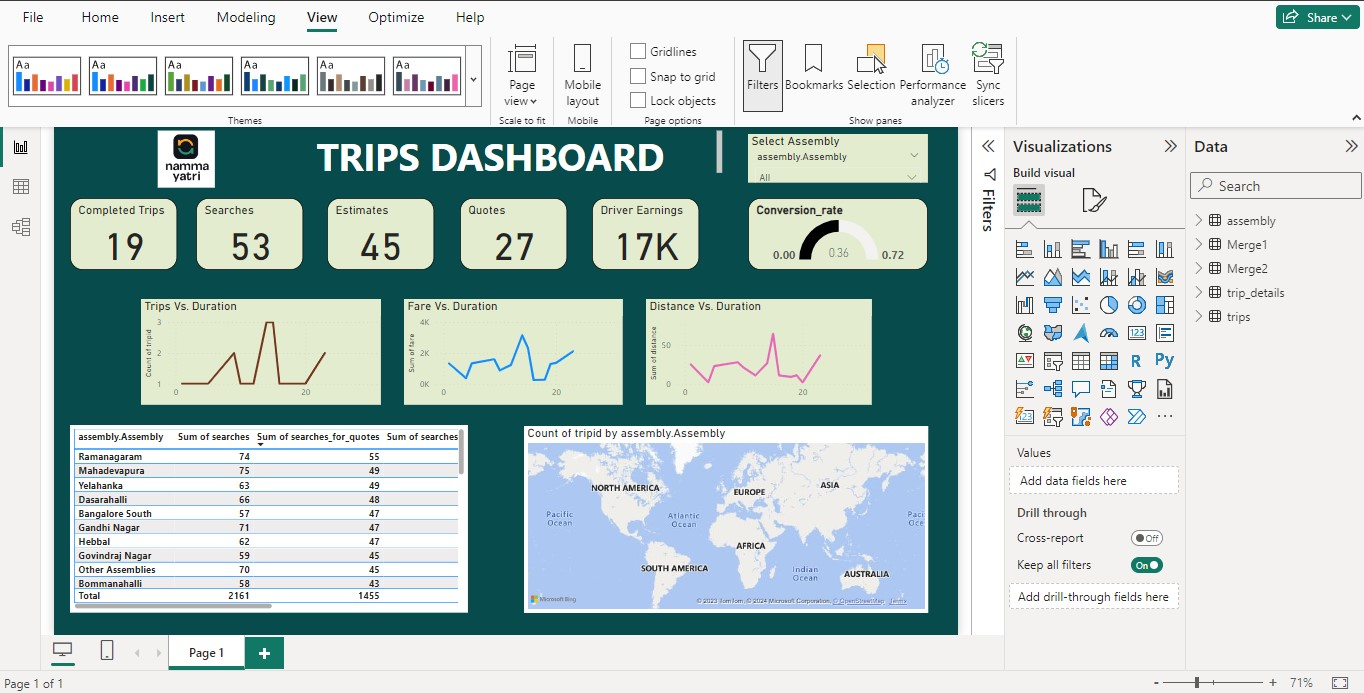

The dashboard page shown, as its layout file describes it:
{"tool":"powerbi","page":{"name":"Page 1","canvas":[1280,720],"ordinal":0},"visuals":[{"type":"card","title":"Completed Trips","fields":{"Values":["Sum(trip_details.end_ride)"]},"box":[22.7,100.6,151.7,102],"z":0},{"type":"card","title":"Searches","fields":{"Values":["Sum(trip_details.searches)"]},"box":[201.3,100.6,151.7,102],"z":1},{"type":"card","title":"Estimates","fields":{"Values":["Sum(trip_details.searches_got_estimate)"]},"box":[386.9,100.6,151.7,102],"z":2},{"type":"card","title":"Quotes","fields":{"Values":["Sum(trip_details.searches_got_quotes)"]},"box":[575.4,100.6,151.7,102],"z":3},{"type":"card","title":"Driver Earnings","fields":{"Values":["Sum(trips.fare)"]},"box":[762.5,100.6,151.7,102],"z":4},{"type":"gauge","fields":{"Y":["trip_details.Conversion_rate"]},"box":[983.6,100.6,255.1,102],"z":5},{"type":"lineChart","title":"Trips Vs. Duration","fields":{"Category":["trips.duration"],"Y":["CountNonNull(trips.tripid)"]},"box":[123.3,243.8,340.2,150.2],"z":6},{"type":"lineChart","title":"Fare Vs. Duration","fields":{"Category":["trips.duration"],"Y":["Sum(trips.fare)"]},"box":[496.1,243.8,310.4,150.2],"z":7},{"type":"lineChart","title":"Distance Vs. Duration","fields":{"Category":["trips.duration"],"Y":["Sum(trips.distance)"]},"box":[839.1,243.8,320.3,150.2],"z":8},{"type":"tableEx","fields":{"Values":["Merge2.assembly.Assembly","Sum(Merge2.searches)","Sum(Merge2.searches_for_quotes)","Sum(Merge2.searches_got_estimate)","Sum(Merge2.searches_got_quotes)","Sum(Merge2.trips.fare)","trip_details.Conversion_rate"]},"box":[22.7,422.4,564.1,266.5],"z":9},{"type":"map","fields":{"Series":["Merge2.assembly.Assembly"]},"box":[666.1,423.8,572.6,265],"z":10},{"type":"image","box":[0,0,374.2,90.7],"z":11},{"type":"textbox","box":[367.1,0,585.4,75.1],"z":12},{"type":"slicer","title":"Select Assembly","fields":{"Values":["Merge2.assembly.Assembly"]},"box":[983.6,9.9,255.1,69.4],"z":13}]}

Visuals, with their boxes on the page's 1280x720 design canvas (x1, y1, x2, y2). These are canvas units, not pixel positions in the 1364x693 screenshot, which may show the page scaled, cropped or inside an application window:
"Completed Trips" card: l=23, t=101, r=174, b=203
"Searches" card: l=201, t=101, r=353, b=203
"Estimates" card: l=387, t=101, r=539, b=203
"Quotes" card: l=575, t=101, r=727, b=203
"Driver Earnings" card: l=762, t=101, r=914, b=203
gauge - trip_details.Conversion_rate: l=984, t=101, r=1239, b=203
"Trips Vs. Duration" lineChart: l=123, t=244, r=464, b=394
"Fare Vs. Duration" lineChart: l=496, t=244, r=806, b=394
"Distance Vs. Duration" lineChart: l=839, t=244, r=1159, b=394
tableEx - Merge2.assembly.Assembly x Sum(Merge2.searches): l=23, t=422, r=587, b=689
map - Merge2.assembly.Assembly: l=666, t=424, r=1239, b=689
image: l=0, t=0, r=374, b=91
textbox: l=367, t=0, r=952, b=75
"Select Assembly" slicer: l=984, t=10, r=1239, b=79
